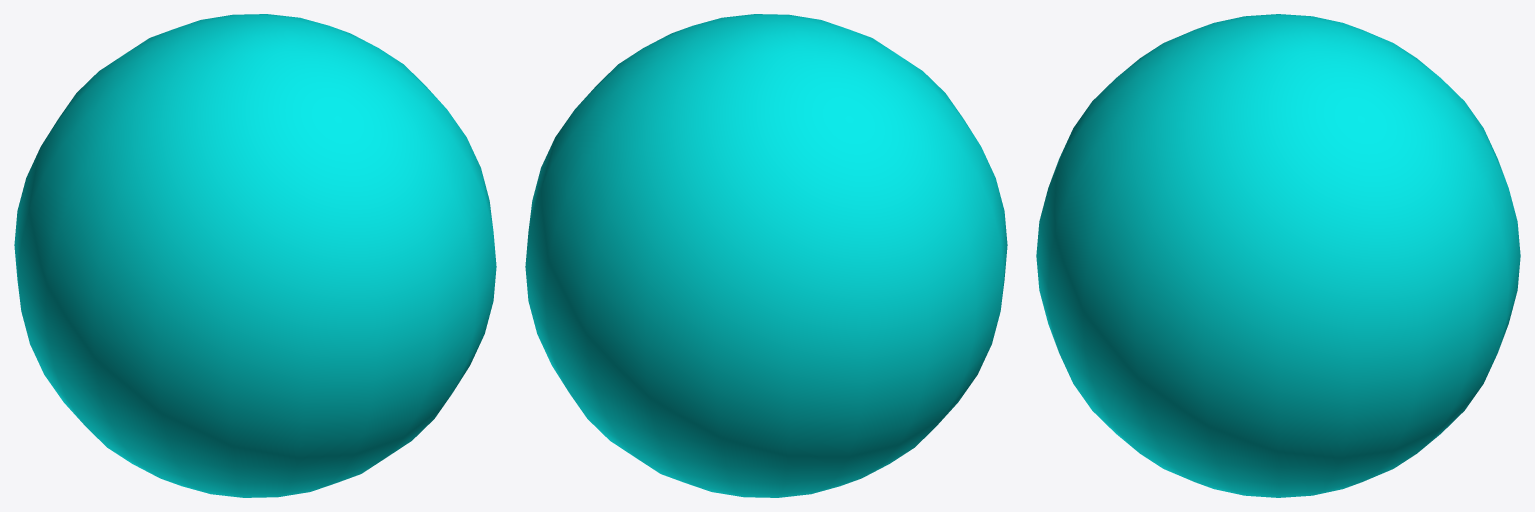
The model's file is Orbs Unity Export 1.fbx.
3 renders of one model, left to right at view 1: azimuth 30°, elevation 25°; view 2: azimuth 150°, elevation 25°; view 3: azimuth 270°, elevation 25°, orthographic.
Parts seen in each view (by area): view 1: Necrotic_Orb_Combined; view 2: Necrotic_Orb_Combined; view 3: Necrotic_Orb_Combined.
Boxes of the visible parts, x1,y1,x2,y2 form: Necrotic_Orb_Combined: (14,14,496,497); Necrotic_Orb_Combined: (525,14,1007,497); Necrotic_Orb_Combined: (1036,14,1520,497).
Size of the model in its own units: 114 by 114 by 114.
